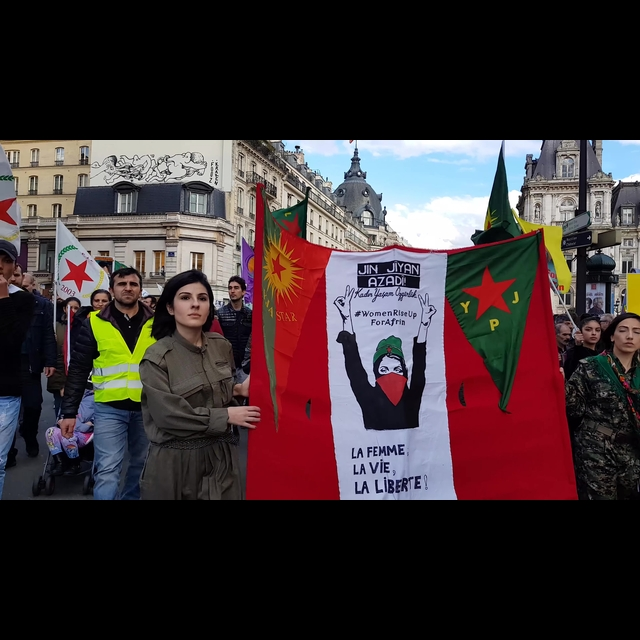PYD: (45, 243, 99, 295)
